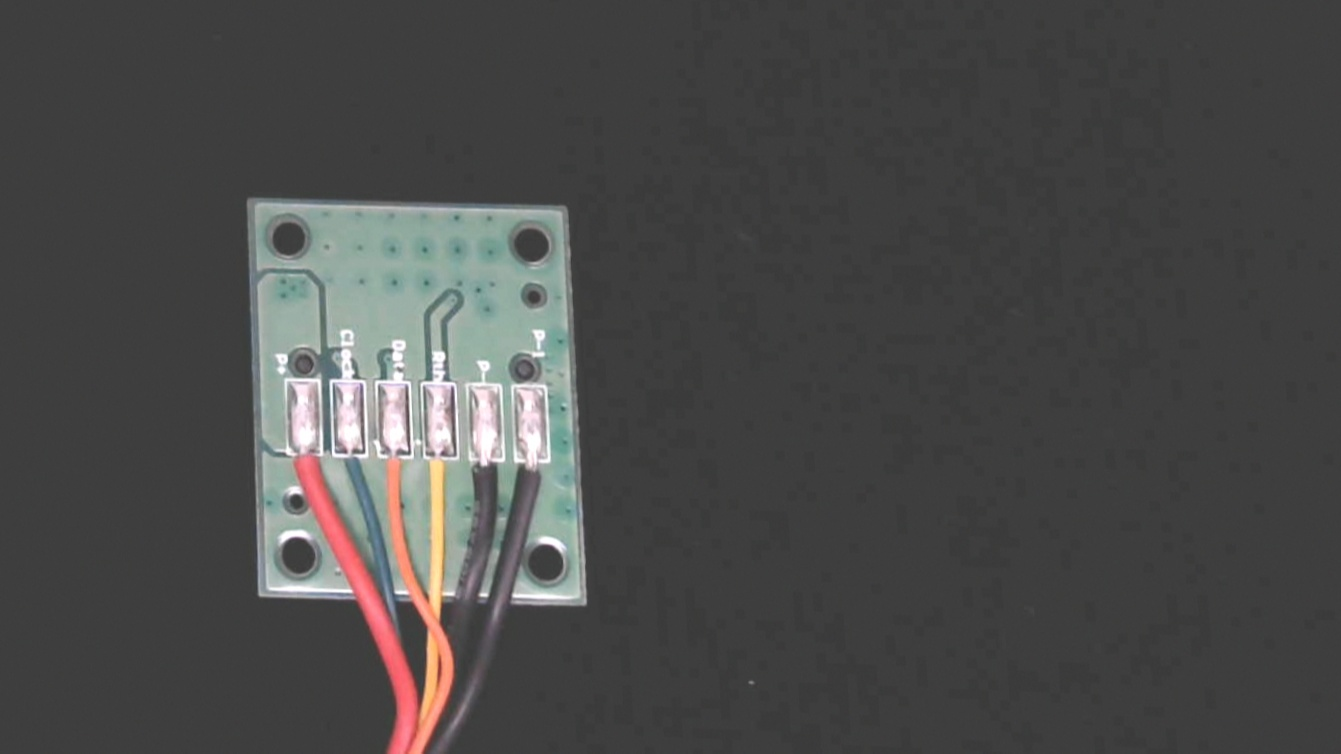Black: (466, 439, 503, 517)
Black1: (515, 441, 551, 516)
Green: (332, 436, 371, 509)
Orange: (374, 437, 416, 512)
Red: (289, 436, 324, 515)
Yellow: (420, 437, 459, 523)
